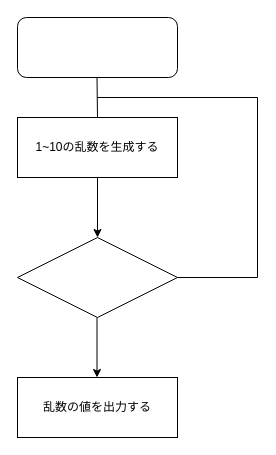
Image size: 276x455. Some labels were removed from this diagram. The box of each missing label's shape, as (x1, y1, x2, y2) in pixels:
乱数の値が5以上の場合: (16, 236, 178, 318)
乱数用の変数を定義: (16, 16, 178, 78)
